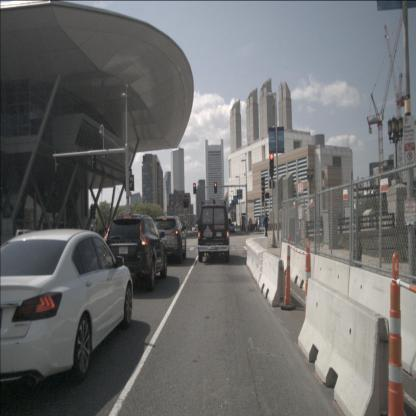barrier: (298, 278, 407, 416), (343, 266, 416, 375), (306, 255, 350, 320), (258, 251, 292, 307), (290, 247, 314, 293), (278, 241, 296, 280), (253, 247, 268, 285), (249, 243, 262, 277), (245, 240, 255, 271), (258, 236, 268, 260)
cone: (388, 252, 404, 416), (301, 238, 322, 338), (278, 234, 296, 310)
